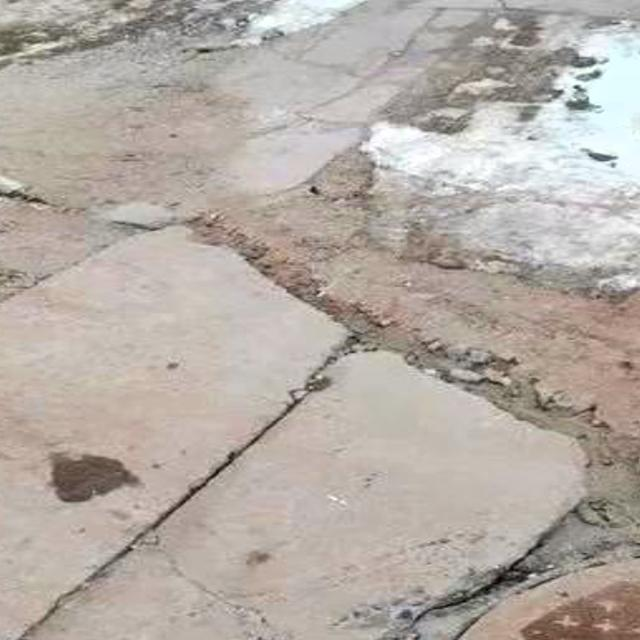circle: (194, 514, 640, 640)
